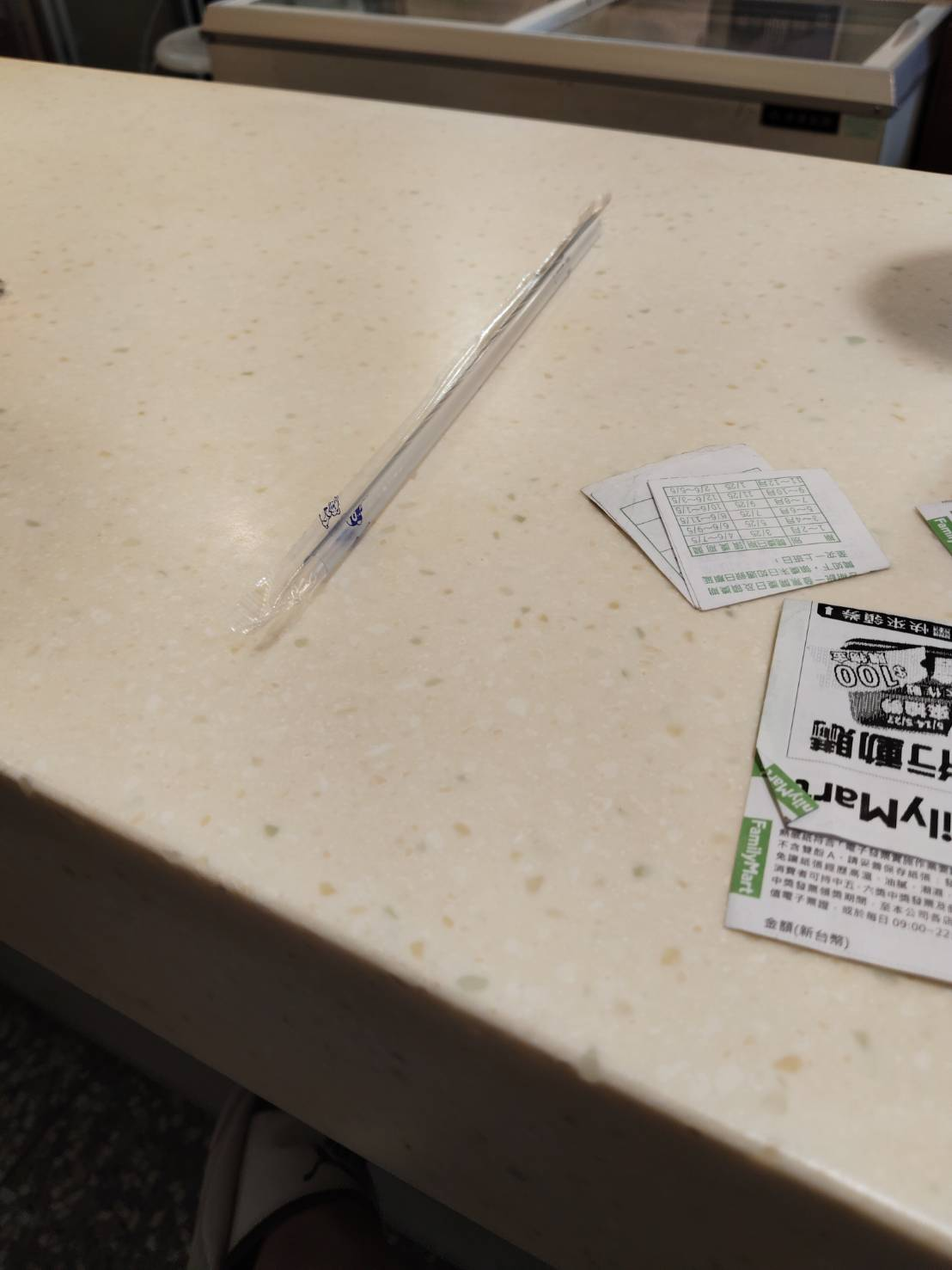paper: (673, 502, 952, 1069), (561, 410, 868, 610), (916, 433, 952, 616)
plastic: (160, 126, 621, 717)
